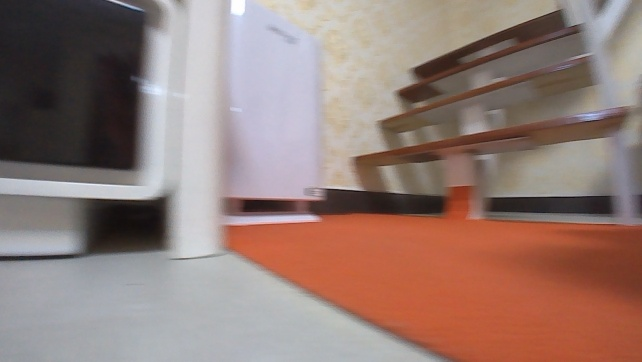blanket: (216, 210, 641, 361)
